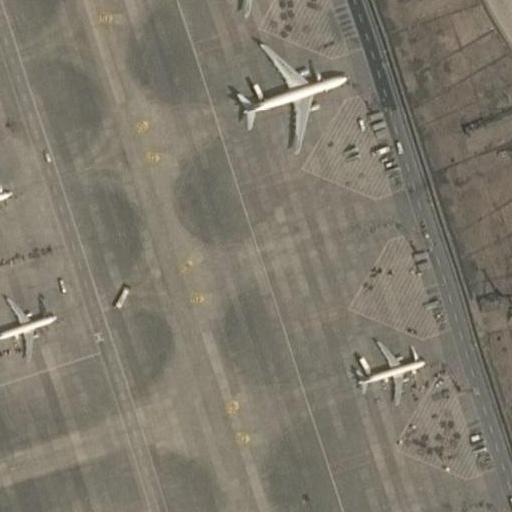Aircraft: (225, 42, 342, 145), (348, 340, 437, 409), (0, 298, 56, 358), (173, 0, 306, 18), (0, 162, 19, 238)
